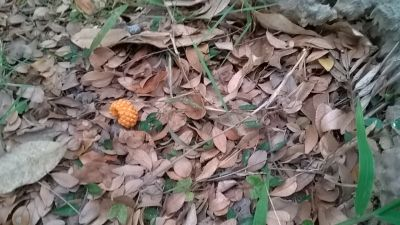eggs: (110, 98, 139, 129)
